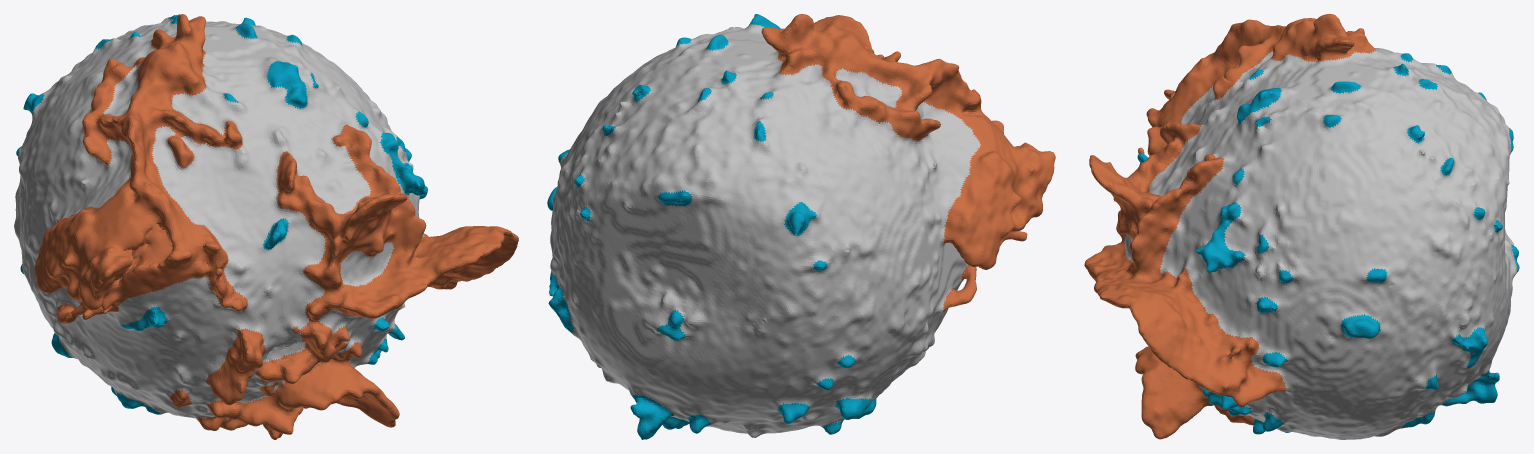
The picture shows the model from 3 angles, left to right: view 1: azimuth 30°, elevation 25°; view 2: azimuth 150°, elevation 25°; view 3: azimuth 270°, elevation 25°; orthographic projection. The views are drawn at different scales.
Size of the model in its own units: 170 by 159 by 161.
